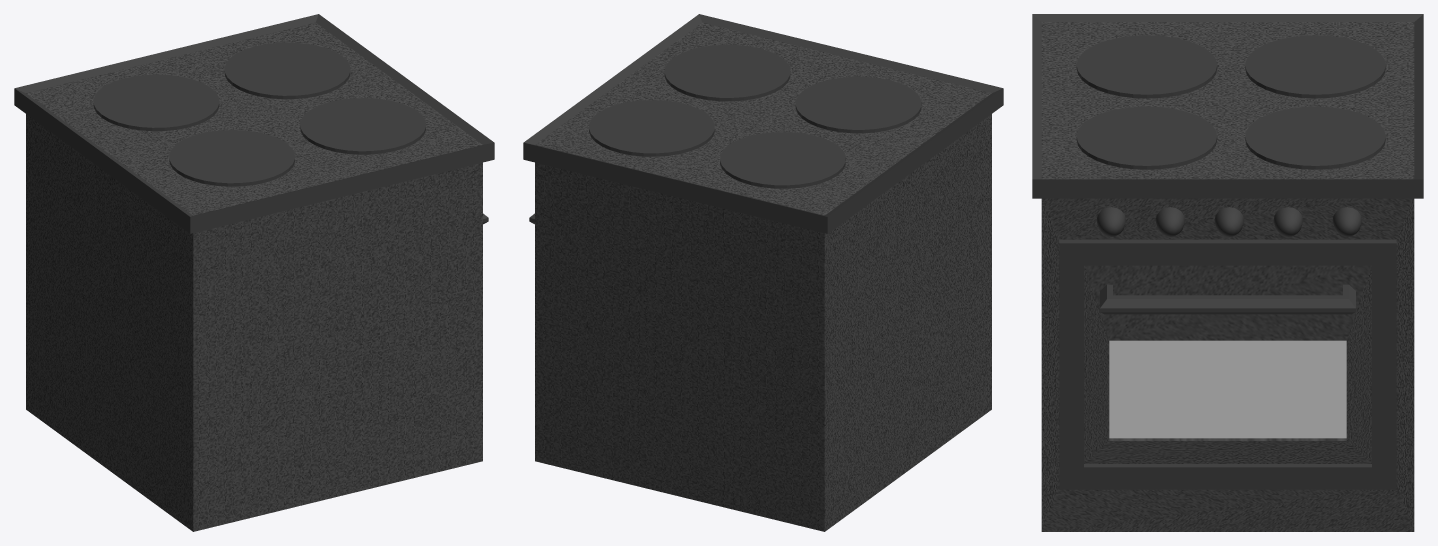
The model's file is GameJamOven.fbx.
3 renders of one model, left to right at view 1: azimuth 30°, elevation 25°; view 2: azimuth 150°, elevation 25°; view 3: azimuth 270°, elevation 25°, orthographic. The views are drawn at different scales.
Parts seen in each view (by area): view 1: Cube, Circle; view 2: Cube, Circle; view 3: Cube, Circle, Cube.001, Sphere.
Boxes of the visible parts, box(x1,y1,x2,y2) form: Cube: box(14, 14, 494, 531); Circle: box(93, 42, 425, 186); Cube: box(523, 14, 1003, 531); Circle: box(589, 44, 921, 188); Cube: box(1032, 14, 1423, 531); Circle: box(1076, 35, 1385, 169); Cube.001: box(1100, 284, 1355, 314); Sphere: box(1096, 207, 1361, 236).
Size of the model in its own units: 352 by 327 by 326.
Materials: 3 (1 with a texture image).
